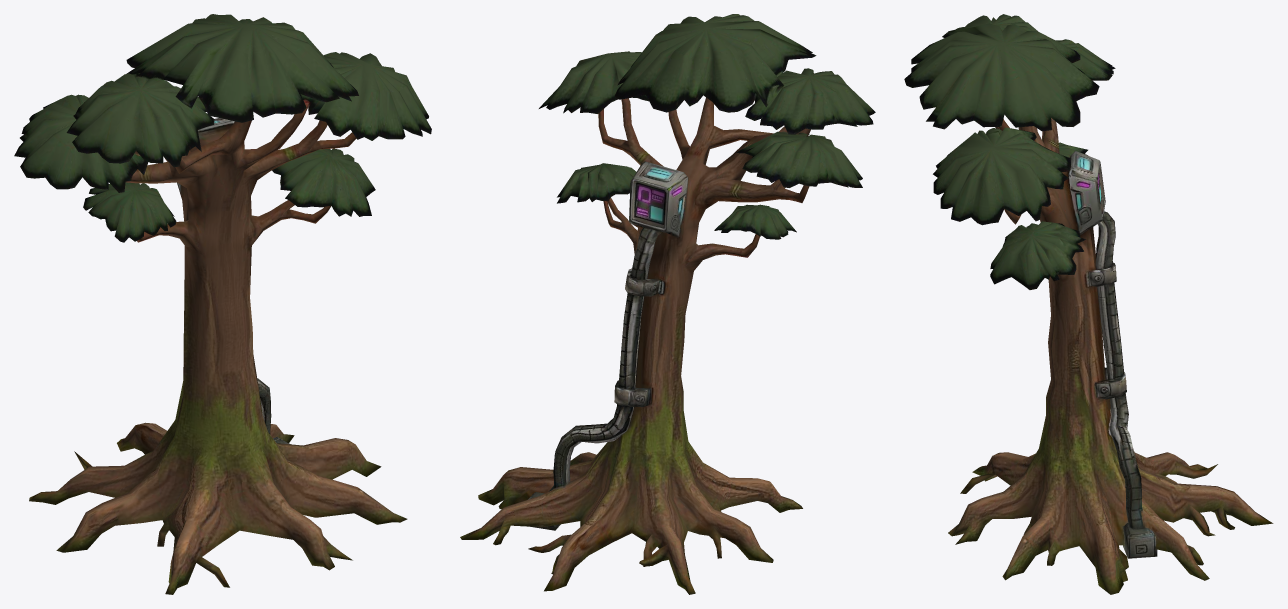
File: dipterocarp.glb
The picture shows the model from 3 angles, left to right: view 1: azimuth 30°, elevation 25°; view 2: azimuth 150°, elevation 25°; view 3: azimuth 270°, elevation 25°; orthographic projection. The views are drawn at different scales.
Visible parts, largest first — view 1: Body; view 2: Body; view 3: Body.
Boxes of the visible parts, <box> form: Body: <box>14,14,431,594</box>; Body: <box>460,14,875,594</box>; Body: <box>904,14,1273,594</box>.
Size of the model in its own units: 10.82 by 14 by 10.
Materials: 1 (1 with a texture image).
